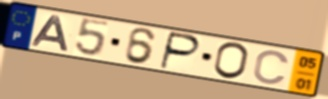5: (73, 16, 111, 59)
6: (123, 27, 157, 67)
A: (30, 15, 71, 53)
C: (251, 49, 292, 86)
O: (211, 41, 251, 82)
P: (158, 30, 203, 71)
